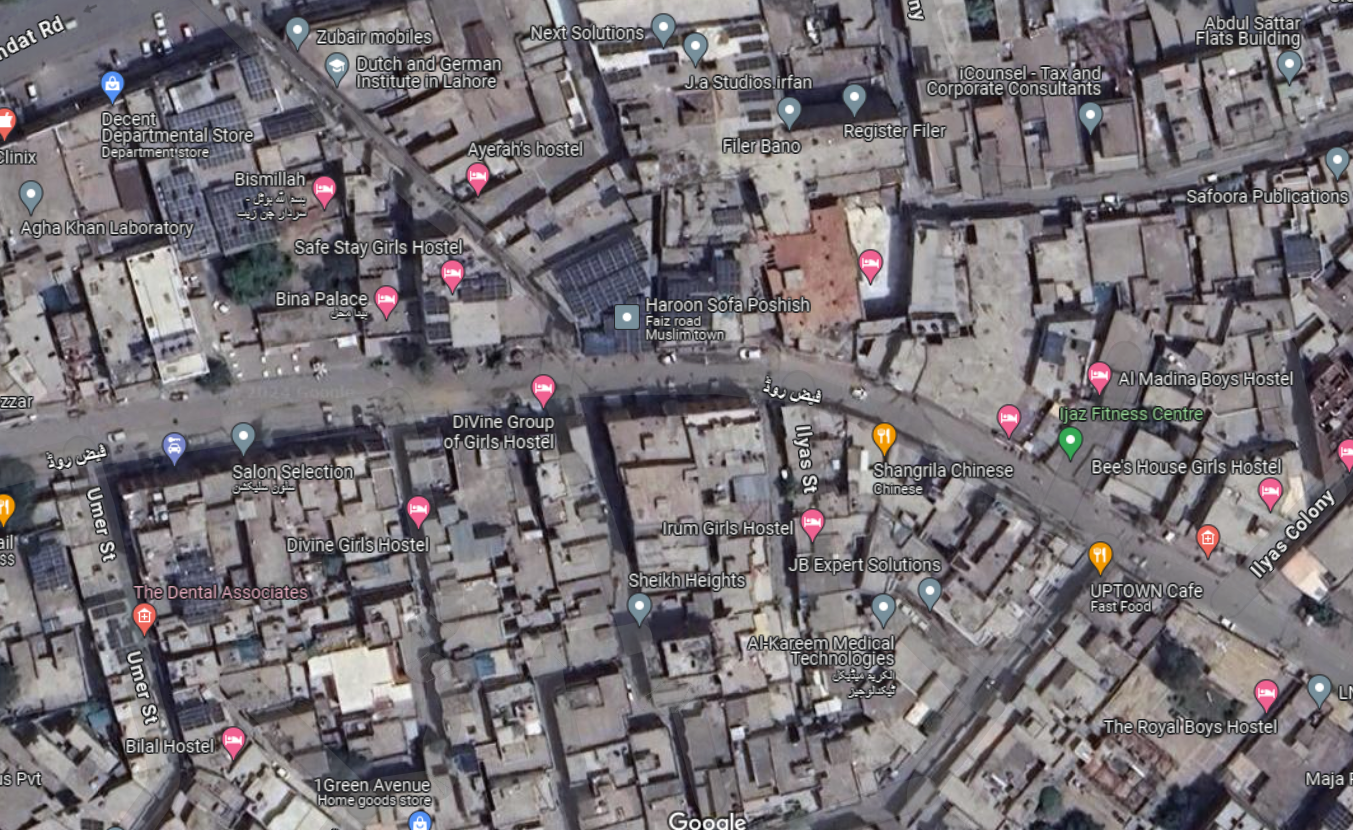solar-panel: (723, 25, 785, 169), (553, 239, 660, 319), (176, 113, 256, 175), (158, 169, 210, 252), (162, 558, 224, 623), (660, 249, 738, 300), (603, 50, 707, 88), (89, 594, 136, 666), (216, 184, 268, 249), (237, 48, 281, 107), (27, 548, 74, 593), (590, 31, 695, 47), (272, 113, 331, 137), (466, 275, 515, 303), (425, 295, 454, 342), (162, 704, 226, 725), (1286, 241, 1318, 276), (717, 210, 747, 231), (1336, 798, 1353, 830)
